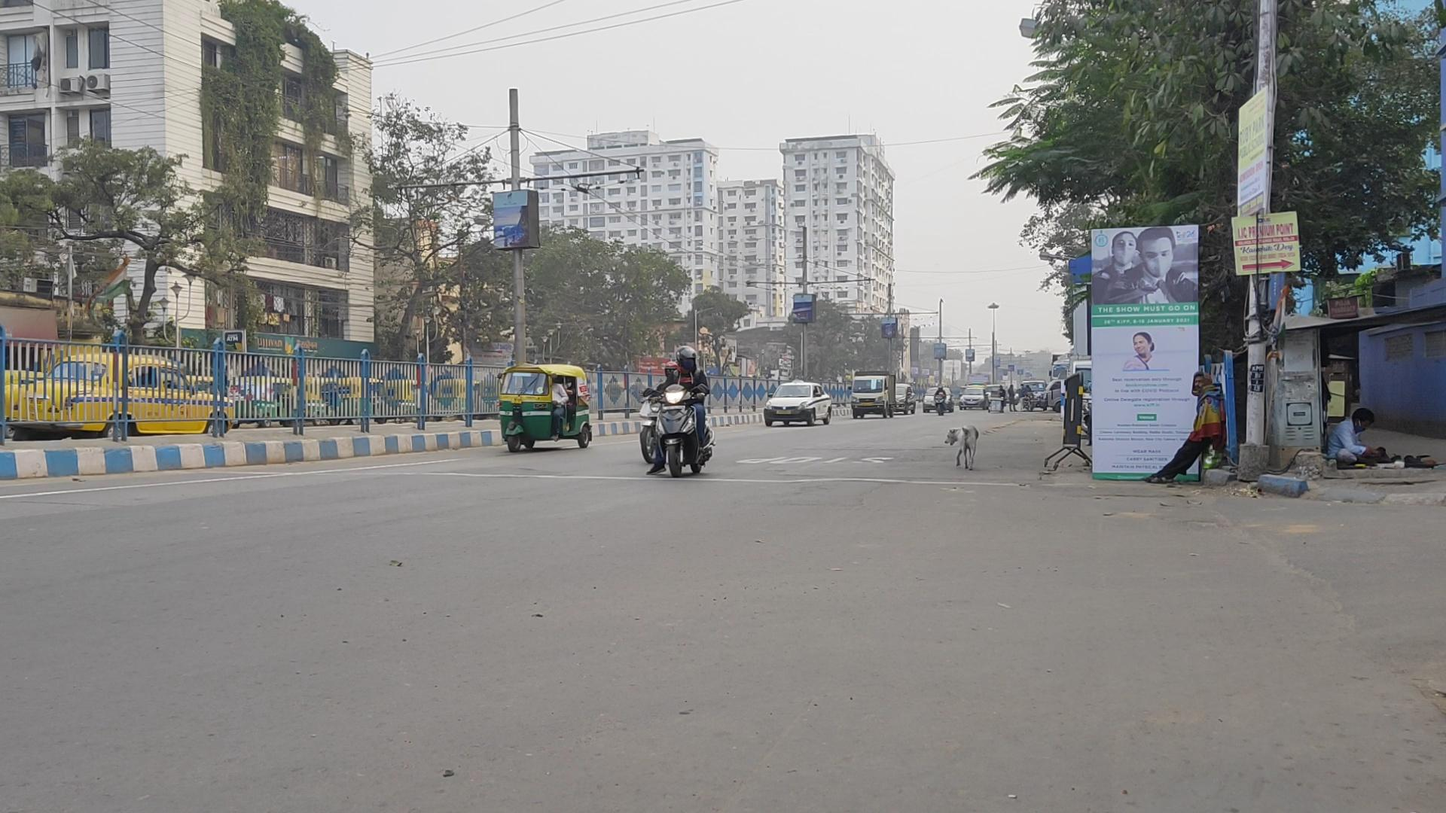Auto: (497, 362, 593, 453)
bike: (643, 346, 716, 479), (934, 385, 947, 416)
car: (764, 380, 832, 427), (1022, 379, 1048, 412), (923, 387, 954, 413), (895, 383, 917, 416), (959, 388, 990, 411)
van: (848, 370, 897, 419)
